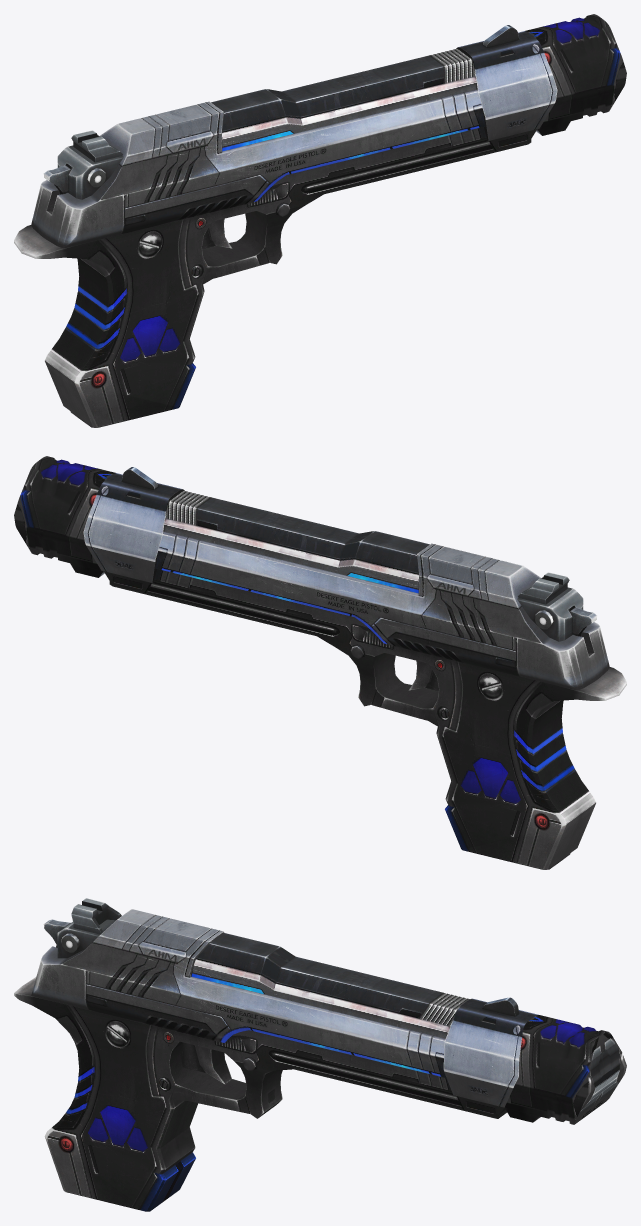
Rendered from deagle.glb.
The picture shows the model from 3 angles, top to bottom: view 1: azimuth 30°, elevation 25°; view 2: azimuth 150°, elevation 25°; view 3: azimuth 330°, elevation 25°; orthographic projection.
Parts seen in each view (by area): view 1: Object_2; view 2: Object_2; view 3: Object_2.
Boxes of the visible parts, x1,y1,x2,y2 form: Object_2: [14, 14, 626, 427]; Object_2: [14, 456, 626, 869]; Object_2: [14, 898, 626, 1211].
Bounding box in the file's own units: 35.72 × 16.88 × 4.4.
1 material, 1 textured.
